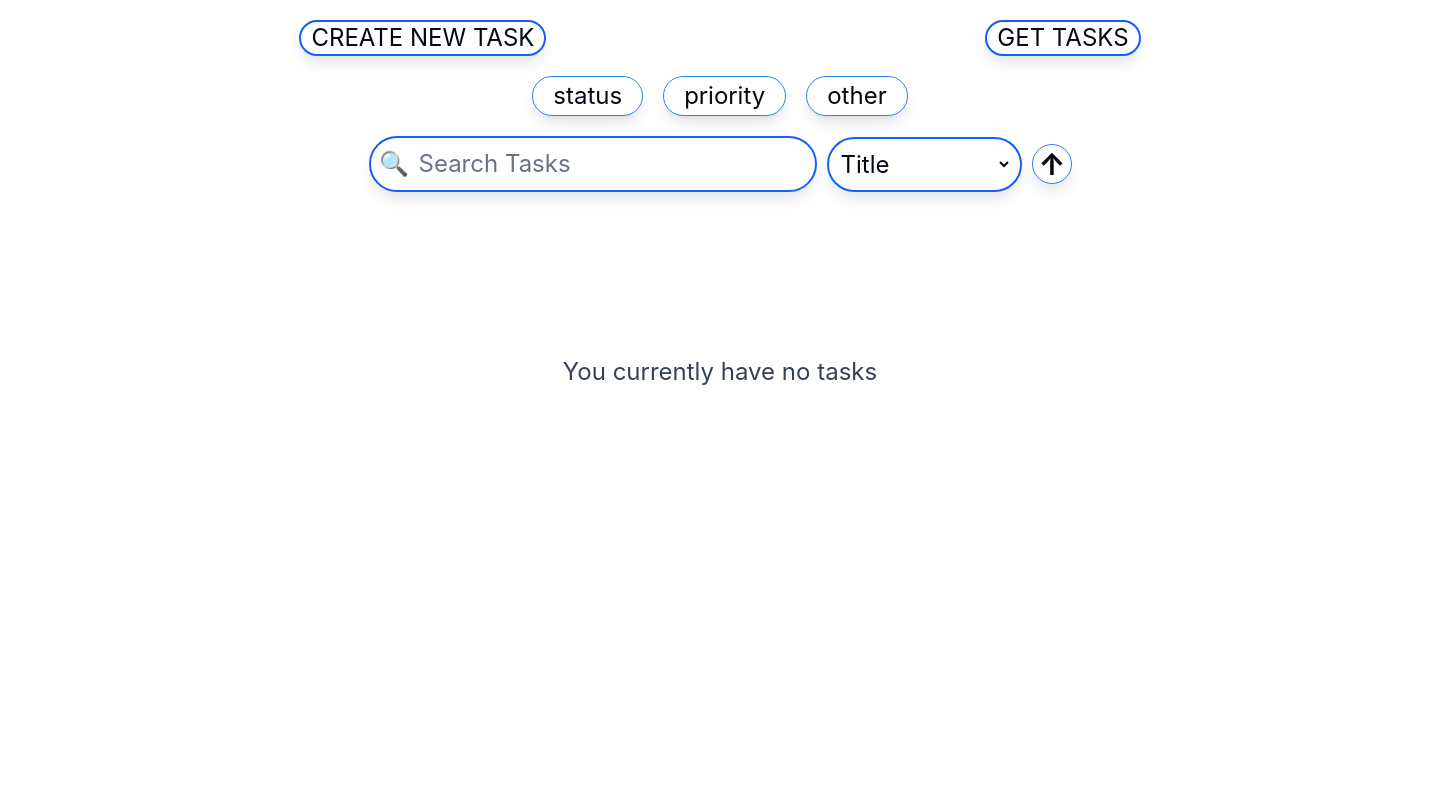
Test: Task Editor › create new task button opens task editor in creation mode
Click the button "CREATE NEW TASK": [423, 38] box x1=299 y1=20 x2=546 y2=56
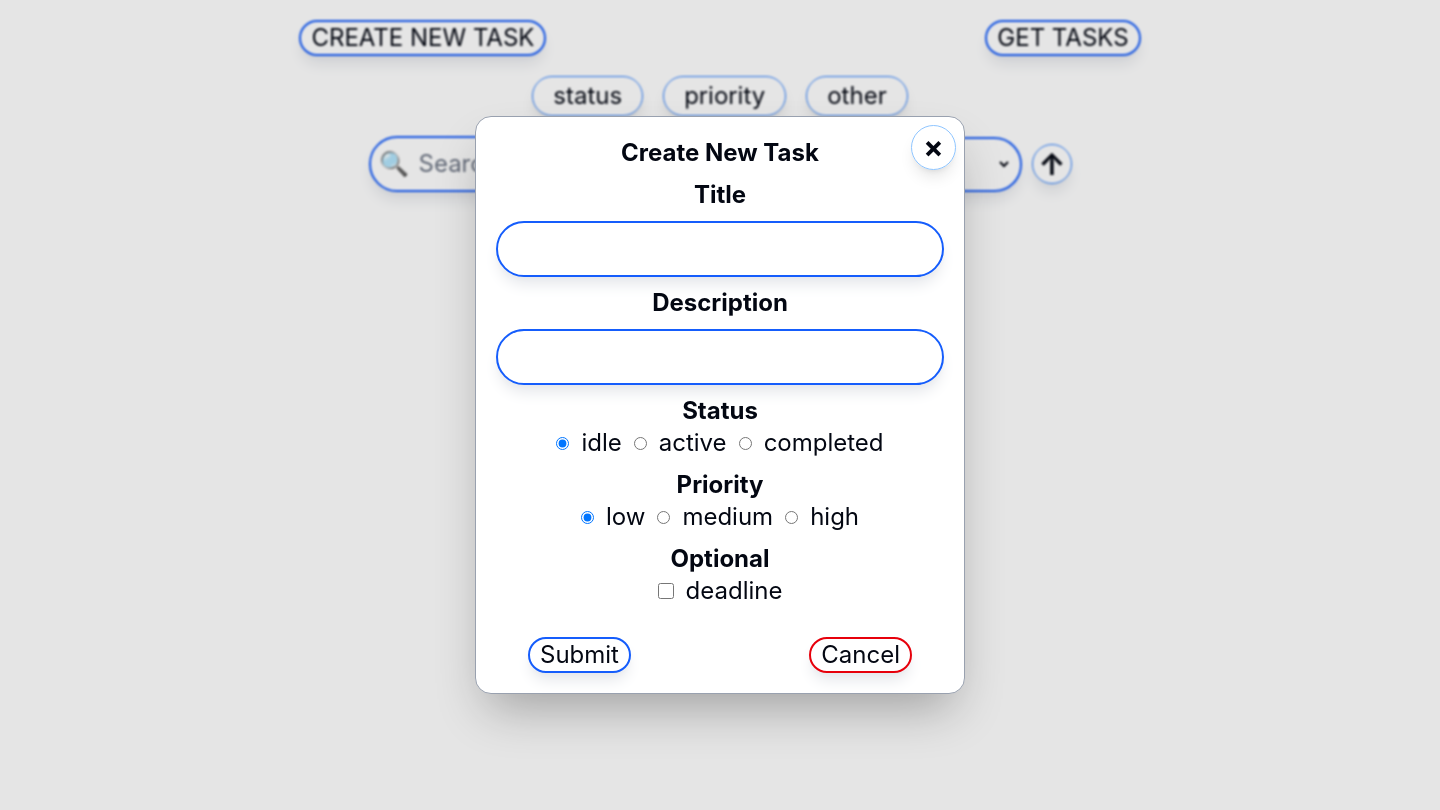
Check: the heading "Create New Task" is shown, box x1=621 y1=137 x2=819 y2=169
